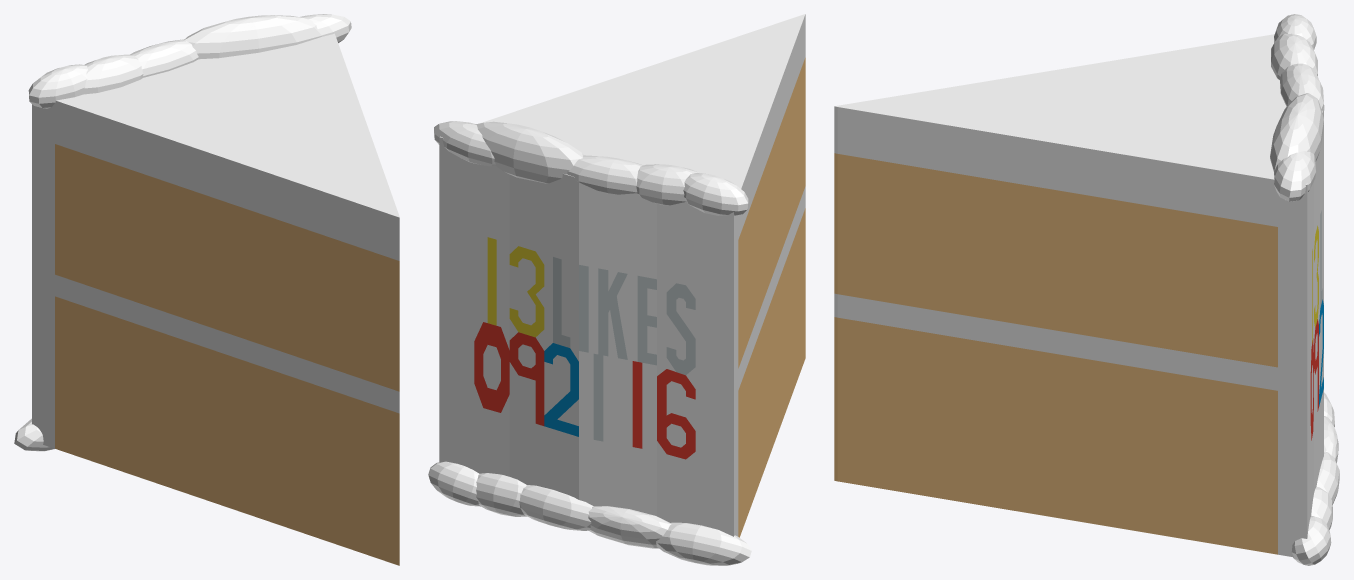
File: cake.glb
The picture shows the model from 3 angles, left to right: view 1: azimuth 30°, elevation 25°; view 2: azimuth 150°, elevation 25°; view 3: azimuth 270°, elevation 25°; orthographic projection. The views are drawn at different scales.
Visible parts, largest first — view 1: group1317472694, group1685964949, group148151907, group1299311482, group366098639, group1853179990, group1324770451; view 2: group1317472694, group1685964949, group1324770451, group718085865, group1466663433, group366098639, group148151907, group1299311482, group1853179990, group1246382891, group1691691546; view 3: group1317472694, group1685964949, group1853179990, group1299311482, group366098639, group1691691546, group148151907, group1466663433, group1246382891.
Part boxes in pixels (x1,y1,x2,y2): group1317472694: [32, 33, 399, 565]; group1685964949: [183, 15, 321, 59]; group148151907: [28, 64, 87, 108]; group1299311482: [83, 54, 143, 94]; group366098639: [130, 39, 198, 77]; group1853179990: [299, 14, 351, 42]; group1324770451: [14, 418, 54, 451]; group1317472694: [439, 14, 805, 537]; group1685964949: [475, 121, 583, 183]; group1324770451: [656, 522, 751, 565]; group718085865: [588, 506, 671, 548]; group1466663433: [519, 485, 593, 530]; group366098639: [567, 155, 642, 194]; group148151907: [683, 173, 748, 215]; group1299311482: [636, 164, 699, 205]; group1853179990: [434, 121, 495, 166]; group1246382891: [476, 473, 526, 516]; group1691691546: [428, 461, 480, 506]; group1317472694: [834, 34, 1323, 557]; group1685964949: [1270, 93, 1323, 171]; group1853179990: [1274, 151, 1315, 201]; group1299311482: [1271, 33, 1317, 79]; group366098639: [1280, 63, 1324, 111]; group1691691546: [1291, 516, 1331, 565]; group148151907: [1274, 14, 1316, 49]; group1466663433: [1316, 452, 1339, 504]; group1246382891: [1311, 486, 1332, 529].
Size of the model in its own units: 1.22 by 1.38 by 1.52.
